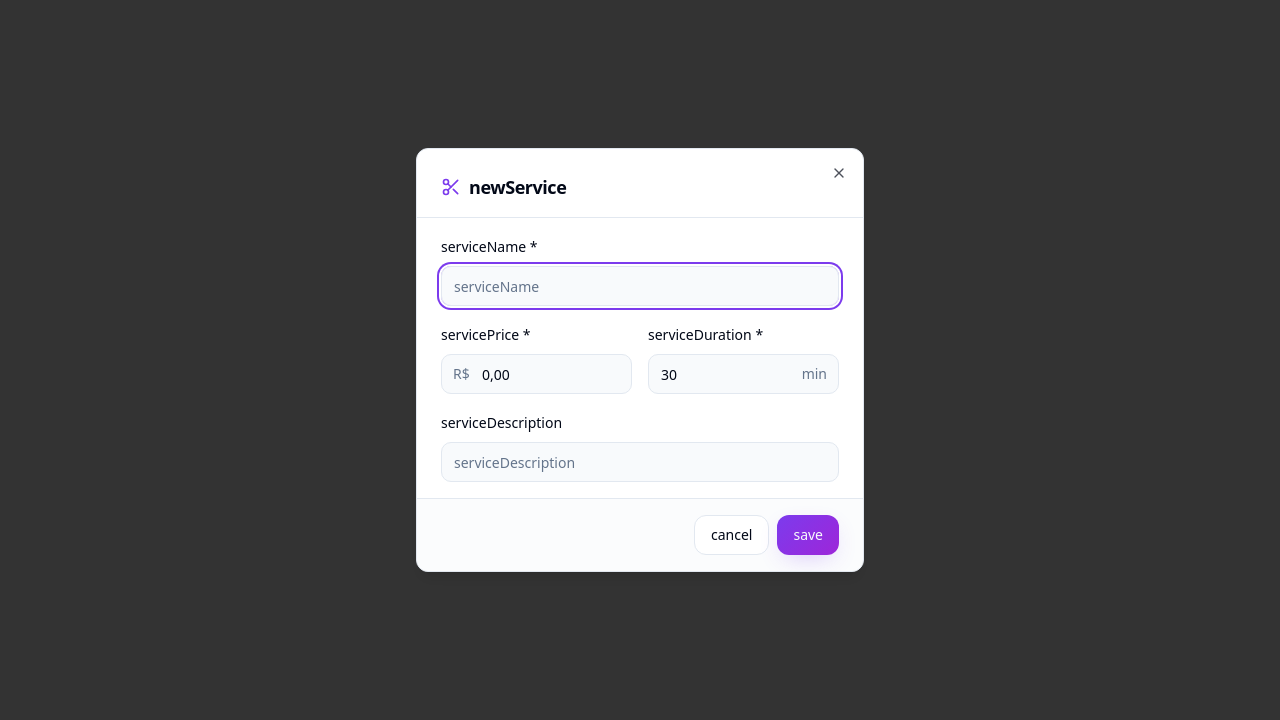
ServiceFormDialog › shows validation errors when fields are empty
Clear the field labelled "serviceDuration *" at (744, 374), box [648,354,839,394]
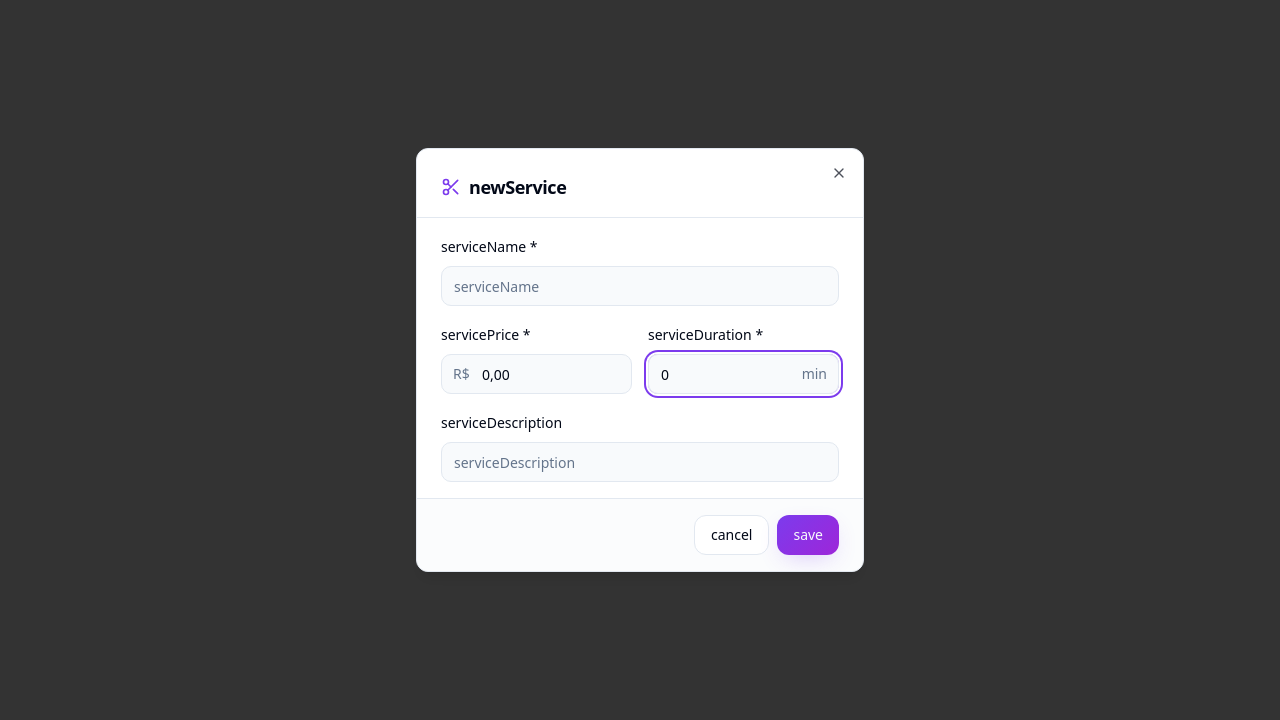
Click the button "save" at (808, 535), box [777,515,839,555]
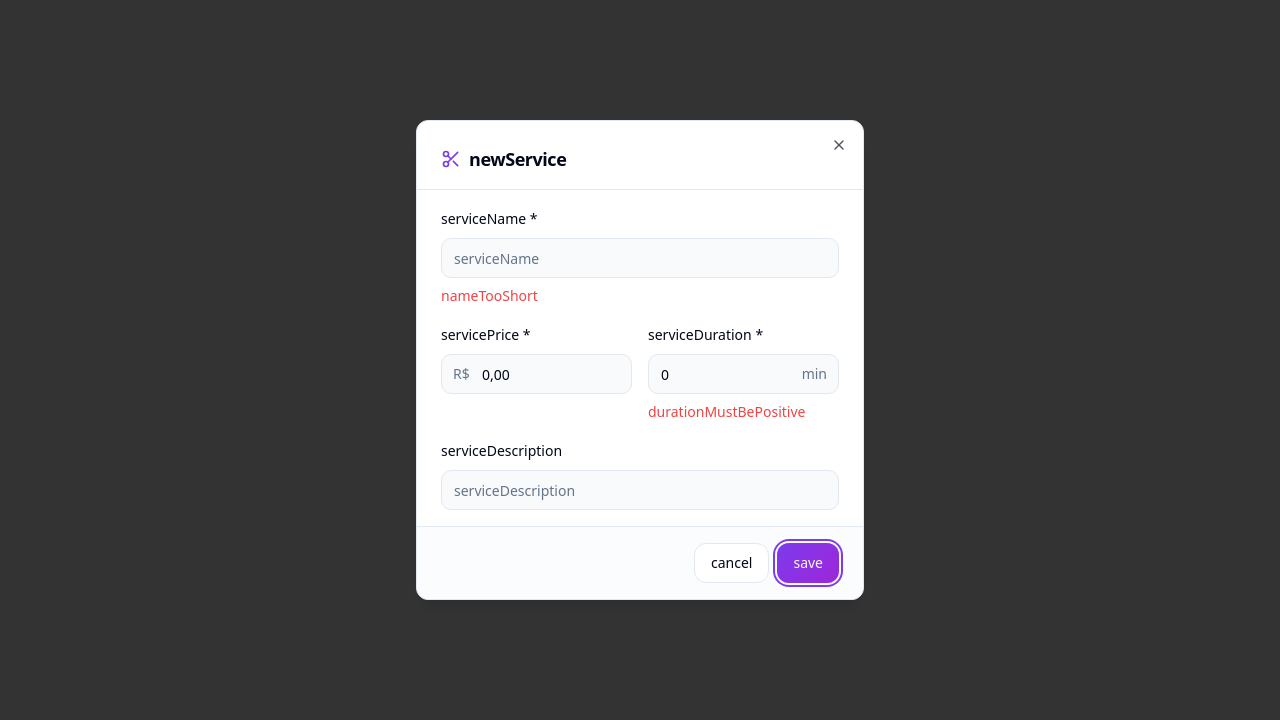
Now the text "nameTooShort" is shown, box [441,286,538,305]
Now the text "durationMustBePositive" is shown, box [648,402,806,421]
